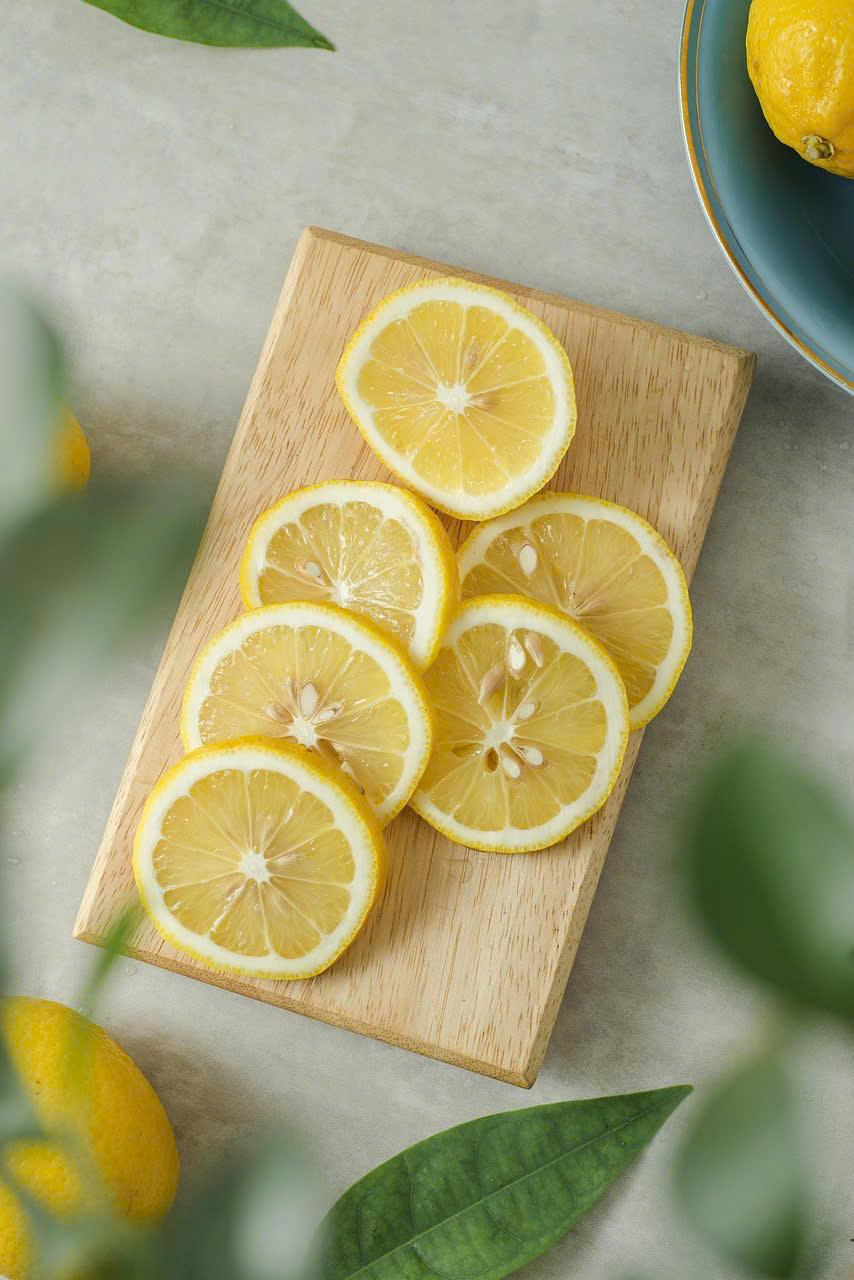lemon: (430, 560, 660, 863), (133, 647, 455, 843), (123, 767, 387, 990), (350, 270, 573, 503), (257, 517, 485, 660)
